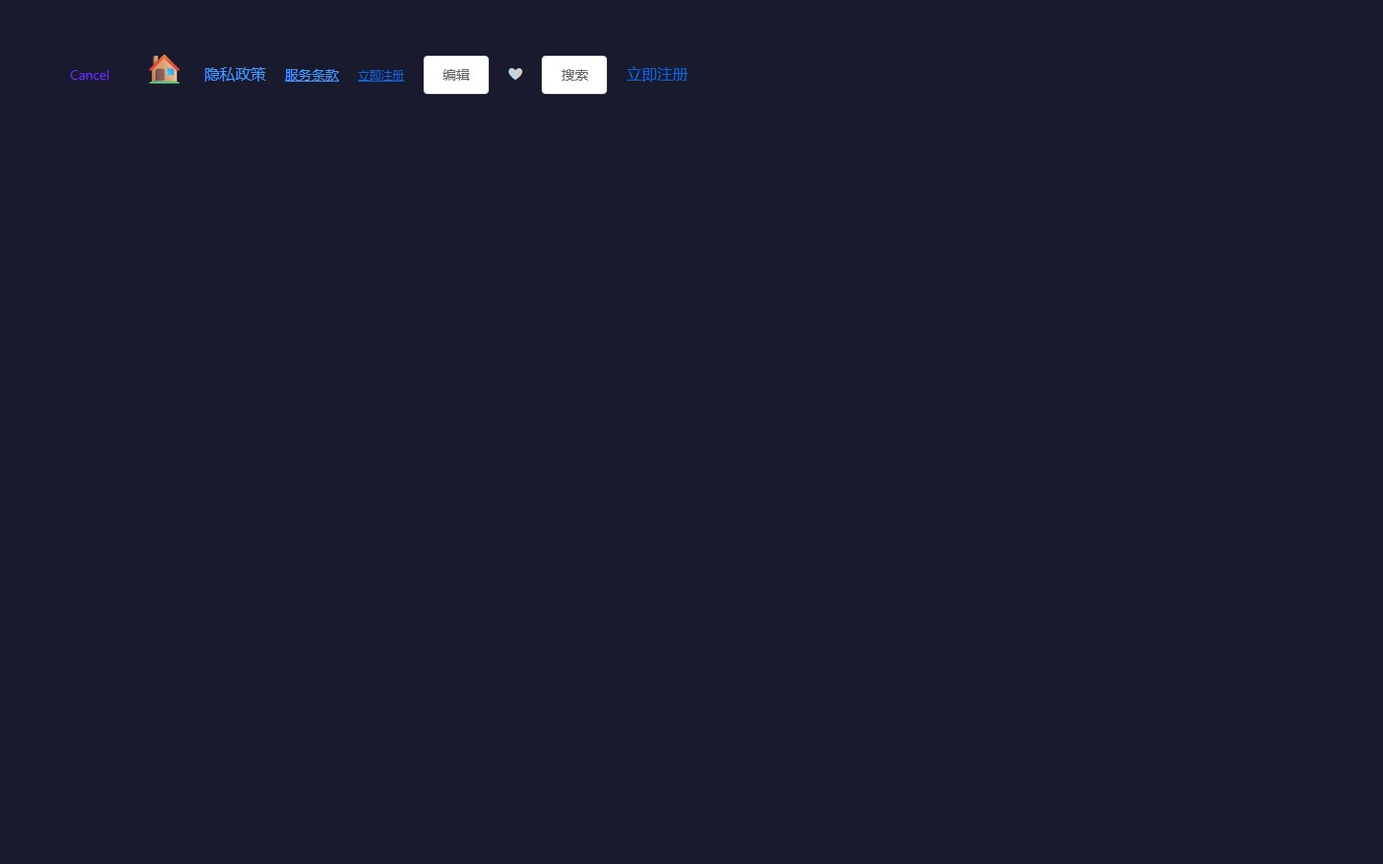button: (423, 56, 489, 94), (542, 56, 607, 94), (56, 60, 124, 89)
icon: (143, 52, 185, 83), (508, 66, 523, 82)
link: (204, 63, 266, 84), (627, 63, 688, 84), (285, 65, 339, 84), (358, 67, 404, 83)
